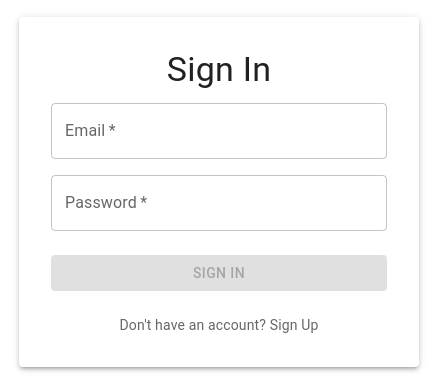
LoginForm › should enable submit button when form is valid
This screenshot has width=439, height=389.
Type "test@example.com" into the field labelled "Email *" at (219, 131), box [51,103,387,159]
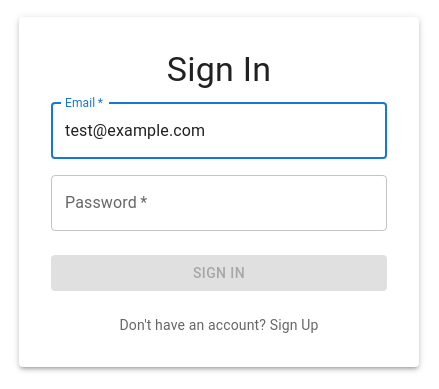
Type "password123" into the password field labelled "Password *" at (219, 203), box [51,175,387,231]
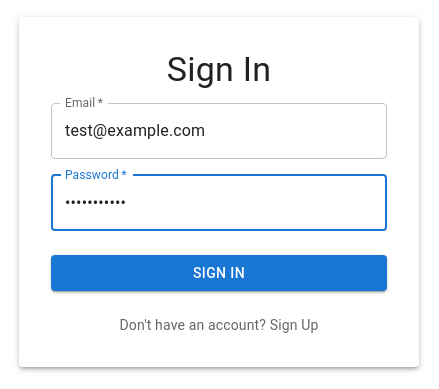
Result: the button "Sign In" is enabled at [51,255,387,291]
